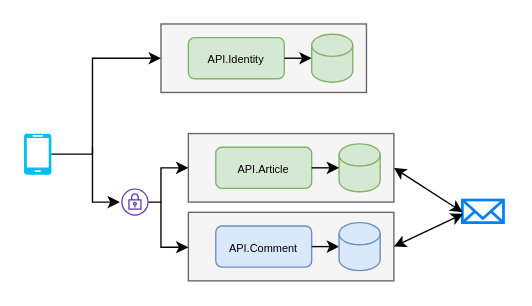
Image size: 532x306. Some labels were removed from this diagram. Each missing label, with the centre of its shape:
"Gateway" goes at point 134,201.
"Rabbit MQ" goes at point 482,210.
